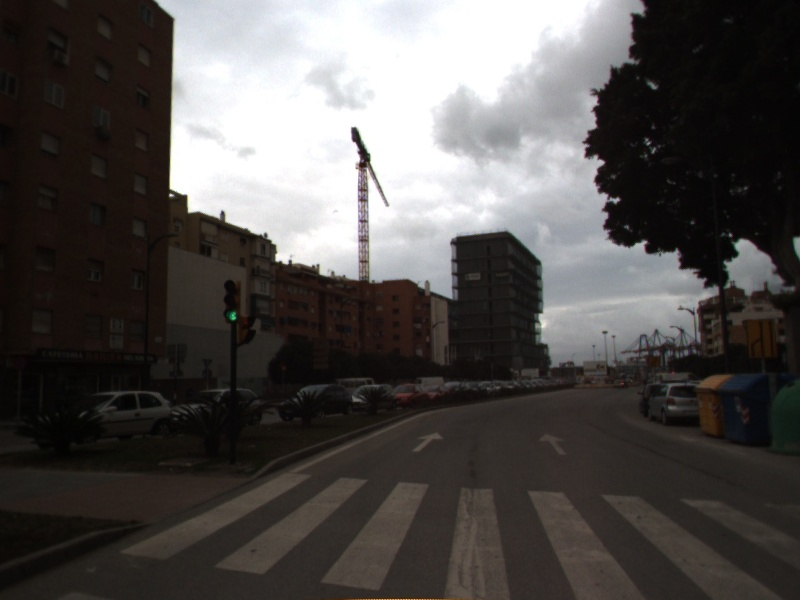STRAIGHT: (409, 430, 447, 454), (536, 432, 571, 457)
